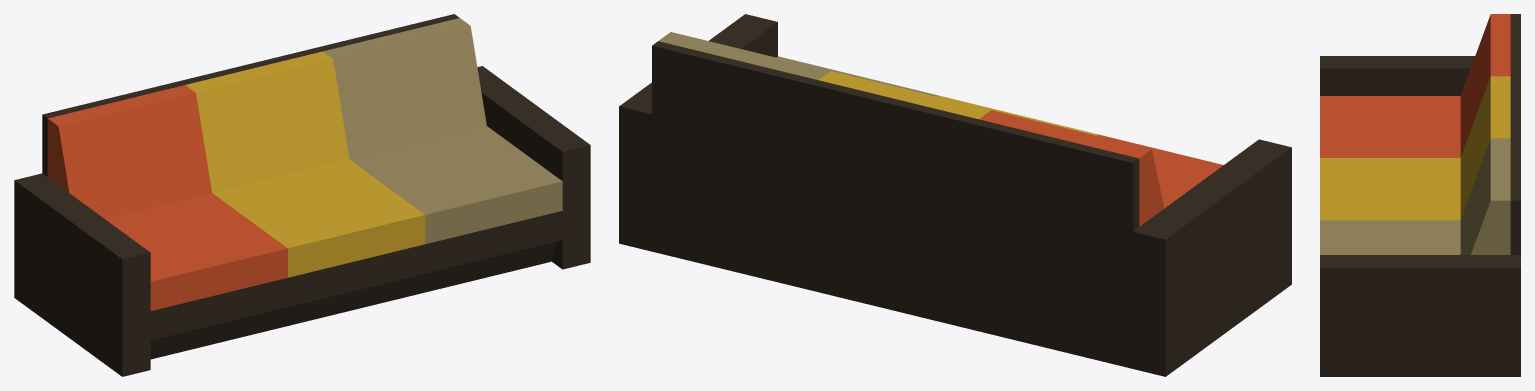
The model's file is sofa2.obj.
The picture shows the model from 3 angles, left to right: view 1: azimuth 30°, elevation 25°; view 2: azimuth 150°, elevation 25°; view 3: azimuth 270°, elevation 25°; orthographic projection. The views are drawn at different scales.
Visible parts, largest first — view 1: Mesh1 Model; view 2: Mesh1 Model; view 3: Mesh1 Model.
Boxes of the visible parts, left/top/right/bottom form: Mesh1 Model: left=14, top=14, right=590, bottom=376; Mesh1 Model: left=619, top=14, right=1291, bottom=376; Mesh1 Model: left=1320, top=14, right=1520, bottom=376.
Bounding box in the file's own units: 2.5 × 0.9 × 1.
